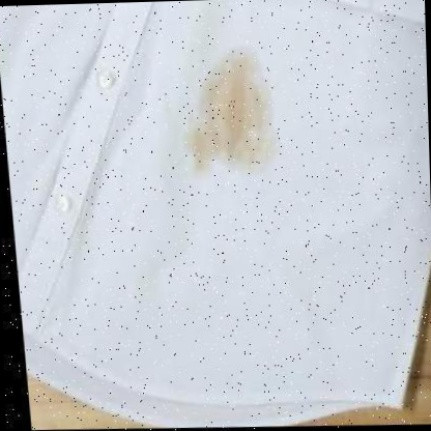coffee: (207, 63, 268, 161)
